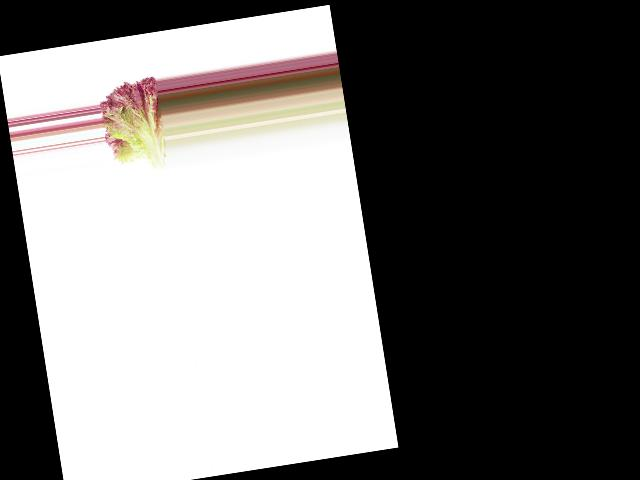lettuce: (97, 70, 170, 178)
